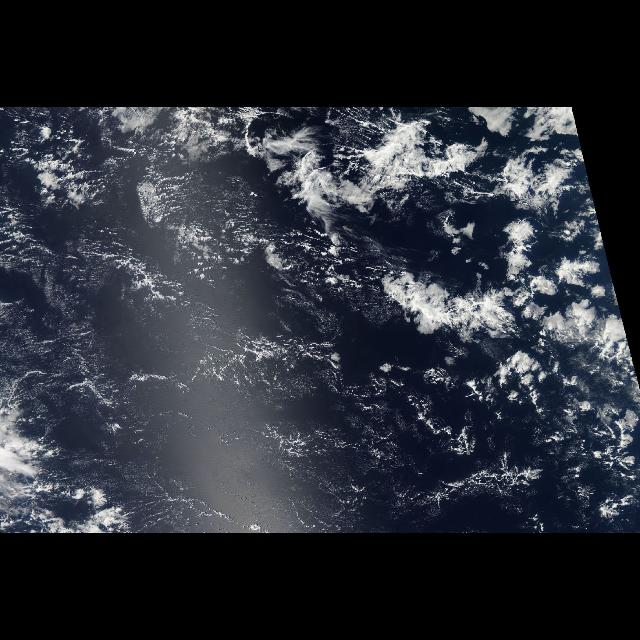Flower: (496, 158, 638, 448)
